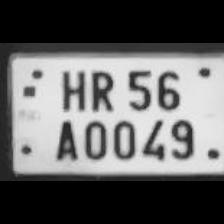0: (109, 114, 137, 160), (80, 116, 108, 160)
4: (138, 114, 166, 162)
5: (120, 65, 154, 109)
6: (152, 67, 184, 111)
9: (166, 114, 196, 160)
A: (49, 116, 79, 162)
H: (56, 65, 89, 112)
R: (86, 66, 116, 112)
